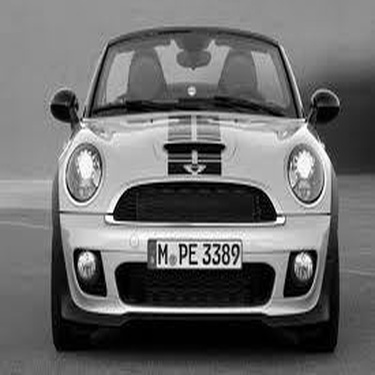car: (29, 15, 348, 358)
